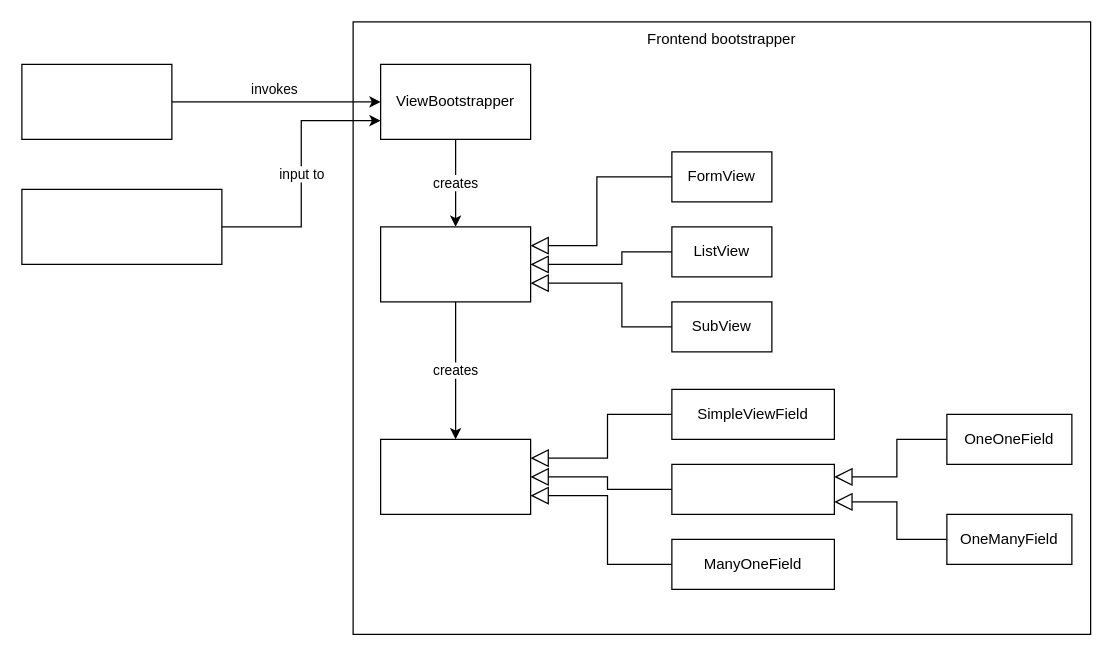
This 1113x656 diagram has some shape labels left out. Each missing label, with the box of its shape:
AssociativeInputField: (671, 463, 834, 514)
Domain models Module configurations Software configuration: (21, 188, 222, 264)
FrontendGen: (21, 63, 172, 139)
View: (379, 226, 531, 302)
ViewField: (379, 438, 531, 514)
